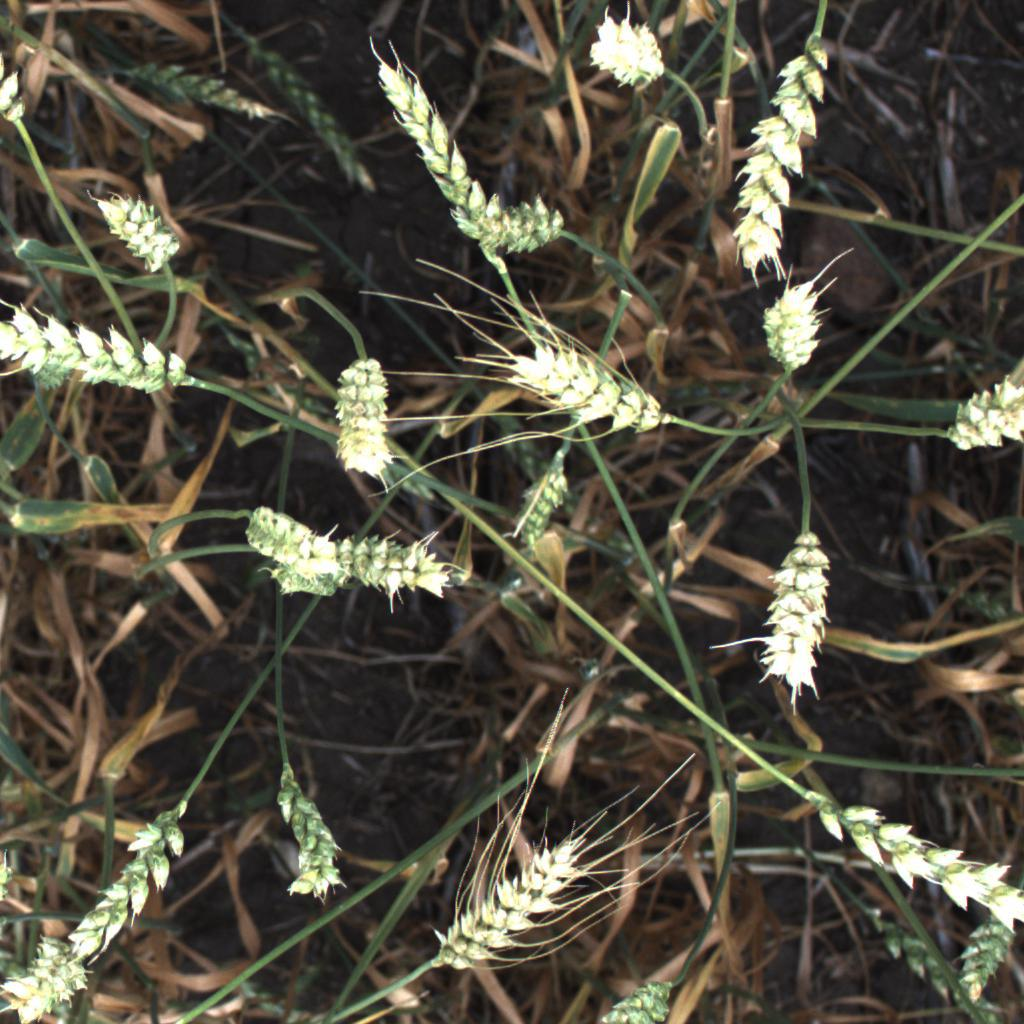0-0: (693, 27, 840, 292), (362, 64, 515, 280), (413, 811, 601, 982), (802, 786, 1022, 925), (54, 799, 202, 971), (491, 319, 677, 439), (737, 508, 844, 716), (0, 304, 195, 416), (312, 349, 410, 490), (263, 748, 348, 908), (338, 523, 482, 615), (747, 269, 847, 382), (447, 180, 574, 268), (223, 497, 345, 581), (568, 8, 677, 102), (936, 358, 1024, 471), (0, 923, 98, 1024), (84, 185, 182, 279), (948, 894, 1019, 1008), (505, 448, 581, 547), (249, 556, 339, 610), (584, 981, 695, 1024), (0, 29, 34, 133)
